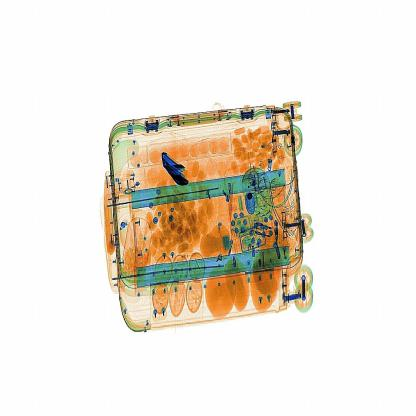pliers: (152, 144, 202, 198)
